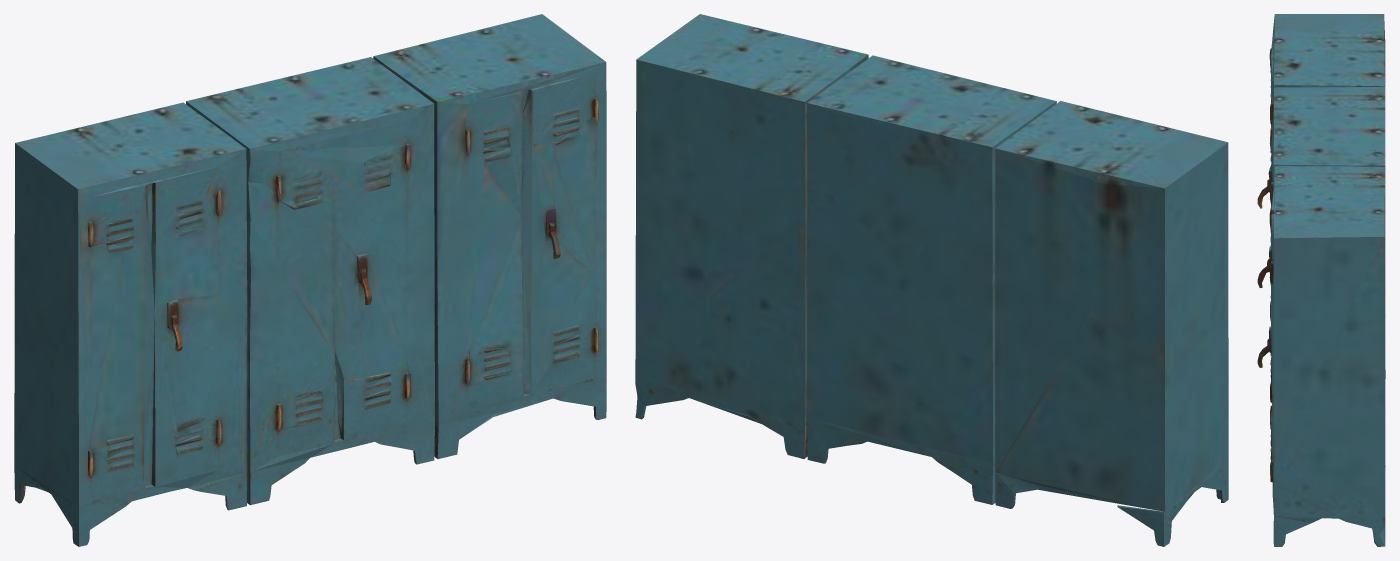
File: taquillas.glb
3 views of the same model, side by side, from view 1: azimuth 30°, elevation 25°; view 2: azimuth 150°, elevation 25°; view 3: azimuth 270°, elevation 25° (orthographic). The views are drawn at different scales.
Size of the model in its own units: 1.9 by 1.23 by 0.4606.
Materials: 1 (1 with a texture image).
